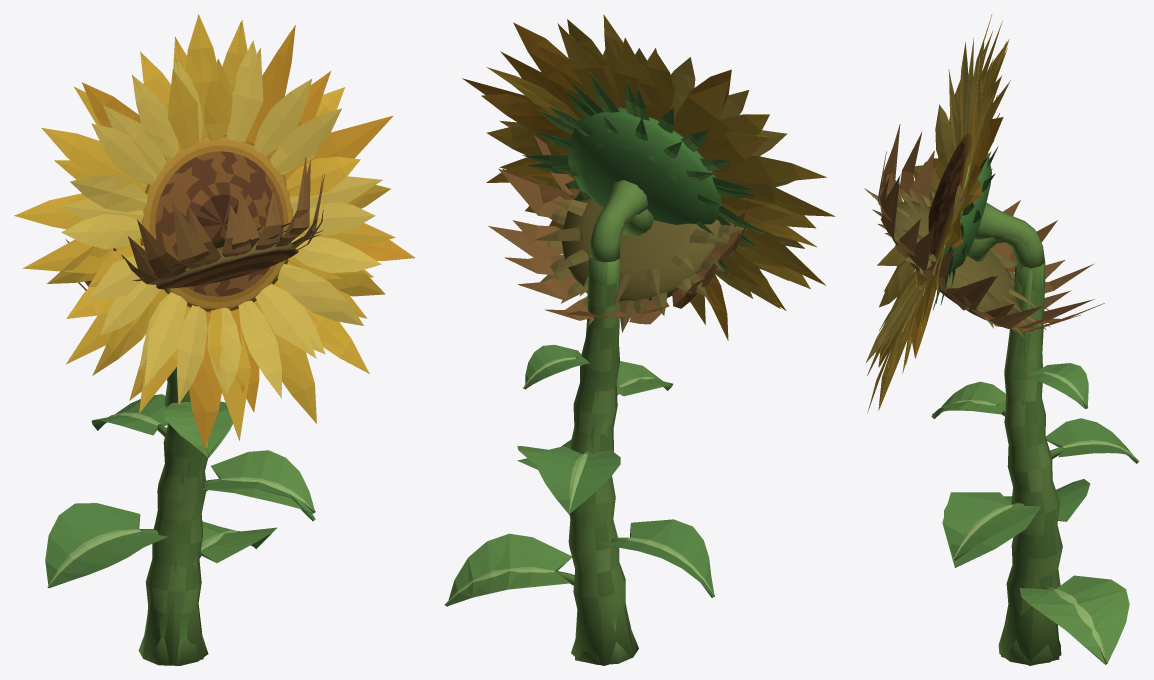
The model's file is giant_sunflower.glb.
The picture shows the model from 3 angles, left to right: view 1: azimuth 30°, elevation 25°; view 2: azimuth 150°, elevation 25°; view 3: azimuth 270°, elevation 25°; orthographic projection. The views are drawn at different scales.
Visible parts, largest first — view 1: head_body_nl, head__far_body_nl, leaves_body_nl, stalk_body_nl, head_dry_body_nl, head_dry__far_body_nl, leaves__far_body_nl, stalk__far_body_nl; view 2: head_body_nl, head_dry_body_nl, leaves_body_nl, stalk_body_nl, head__far_body_nl, head_dry__far_body_nl, stalk__far_body_nl, leaves__far_body_nl; view 3: head_body_nl, stalk_body_nl, leaves_body_nl, head_dry_body_nl, leaves__far_body_nl, head__far_body_nl, head_dry__far_body_nl, stalk__far_body_nl.
Part boxes in pixels (bbox=[...]): head_body_nl: bbox=[14, 14, 415, 448]; head__far_body_nl: bbox=[22, 20, 395, 440]; leaves_body_nl: bbox=[45, 394, 315, 587]; stalk_body_nl: bbox=[138, 367, 208, 665]; head_dry_body_nl: bbox=[78, 156, 323, 290]; head_dry__far_body_nl: bbox=[65, 160, 324, 280]; leaves__far_body_nl: bbox=[163, 403, 315, 562]; stalk__far_body_nl: bbox=[142, 385, 203, 664]; head_body_nl: bbox=[481, 14, 827, 340]; head_dry_body_nl: bbox=[502, 135, 751, 332]; leaves_body_nl: bbox=[444, 344, 715, 606]; stalk_body_nl: bbox=[568, 257, 638, 664]; head__far_body_nl: bbox=[462, 23, 835, 324]; head_dry__far_body_nl: bbox=[488, 168, 748, 317]; stalk__far_body_nl: bbox=[572, 258, 633, 665]; leaves__far_body_nl: bbox=[445, 361, 671, 606]; head_body_nl: bbox=[866, 14, 1044, 413]; stalk_body_nl: bbox=[998, 262, 1062, 665]; leaves_body_nl: bbox=[931, 363, 1139, 664]; head_dry_body_nl: bbox=[864, 132, 1104, 334]; leaves__far_body_nl: bbox=[932, 394, 1125, 663]; head__far_body_nl: bbox=[867, 20, 1044, 375]; head_dry__far_body_nl: bbox=[874, 124, 1094, 341]; stalk__far_body_nl: bbox=[1001, 263, 1059, 665].
Size of the model in its own units: 74.04 by 123 by 48.86.
